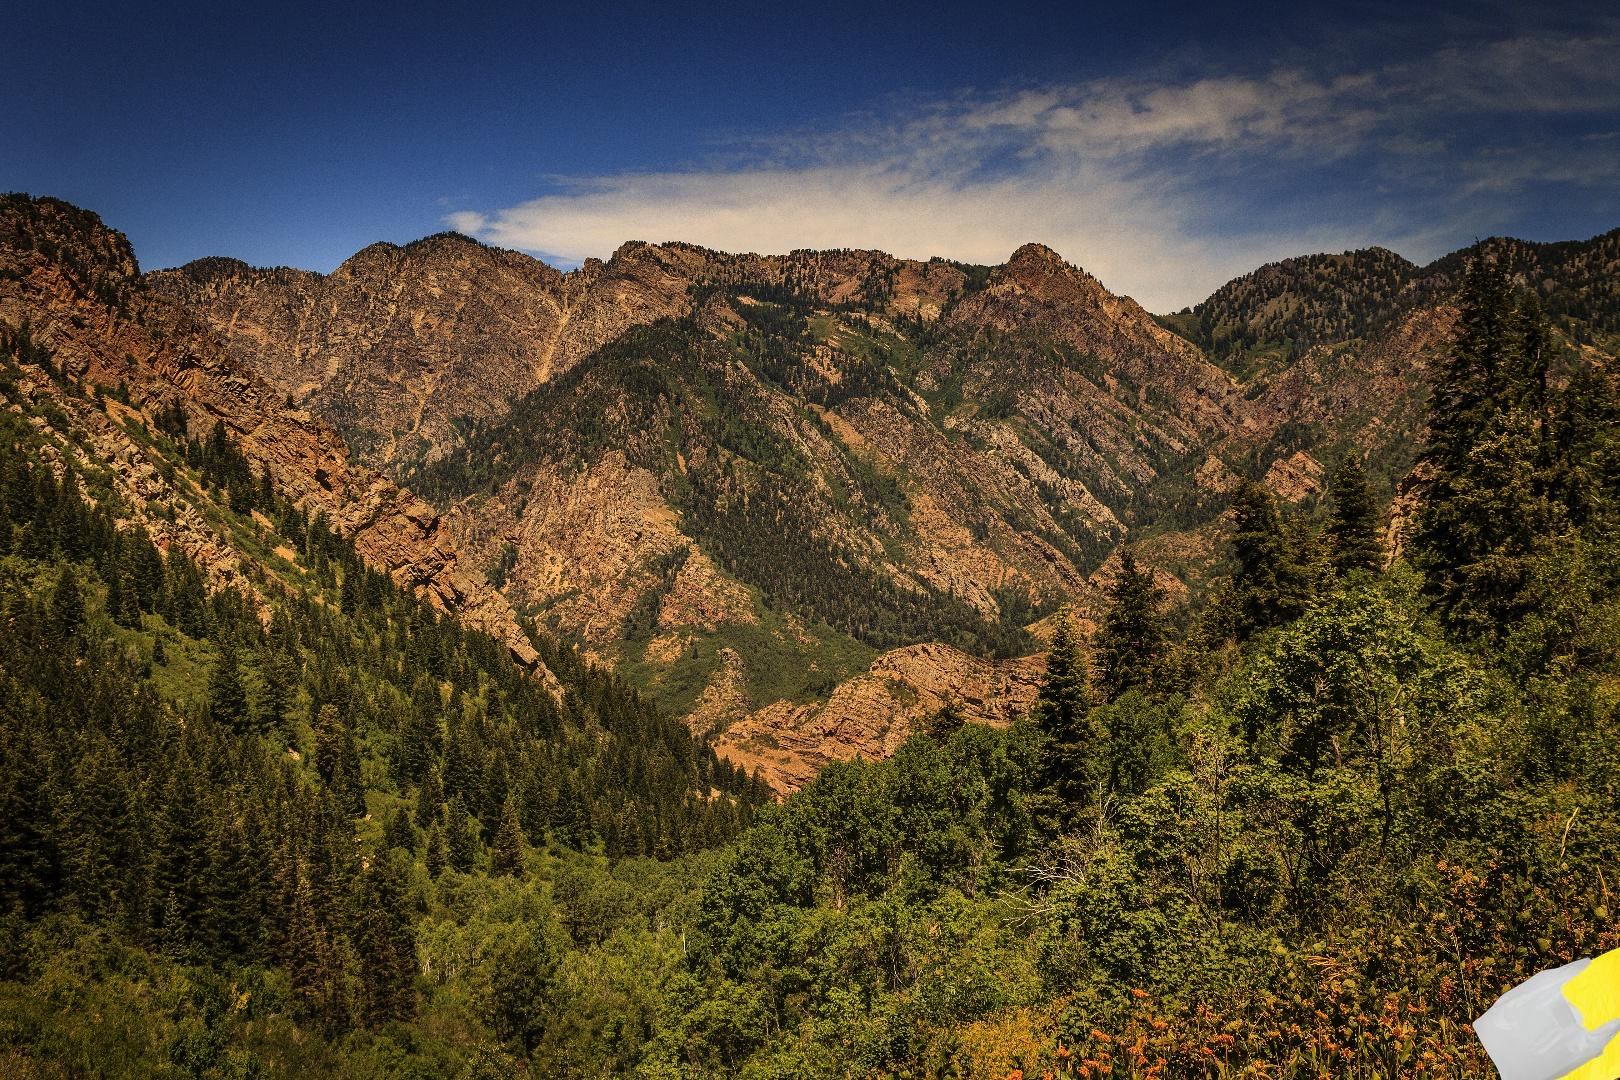plastic-bag: (1469, 941, 1620, 1080)
